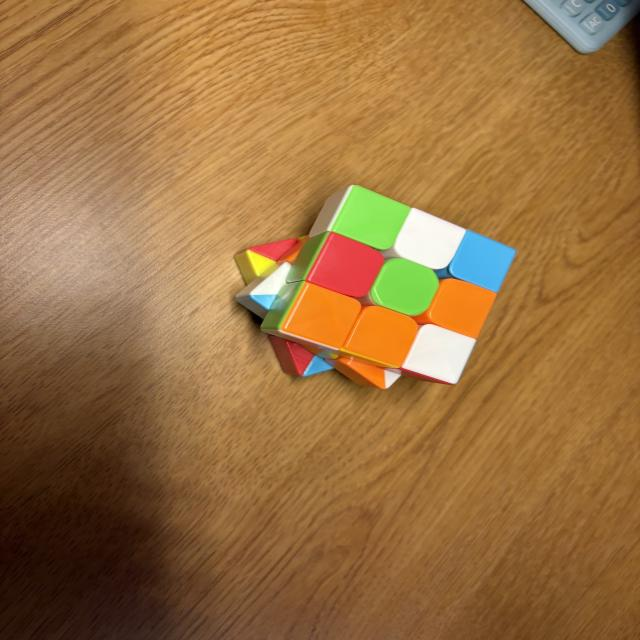Rubiks Cube: (234, 185, 517, 389)
